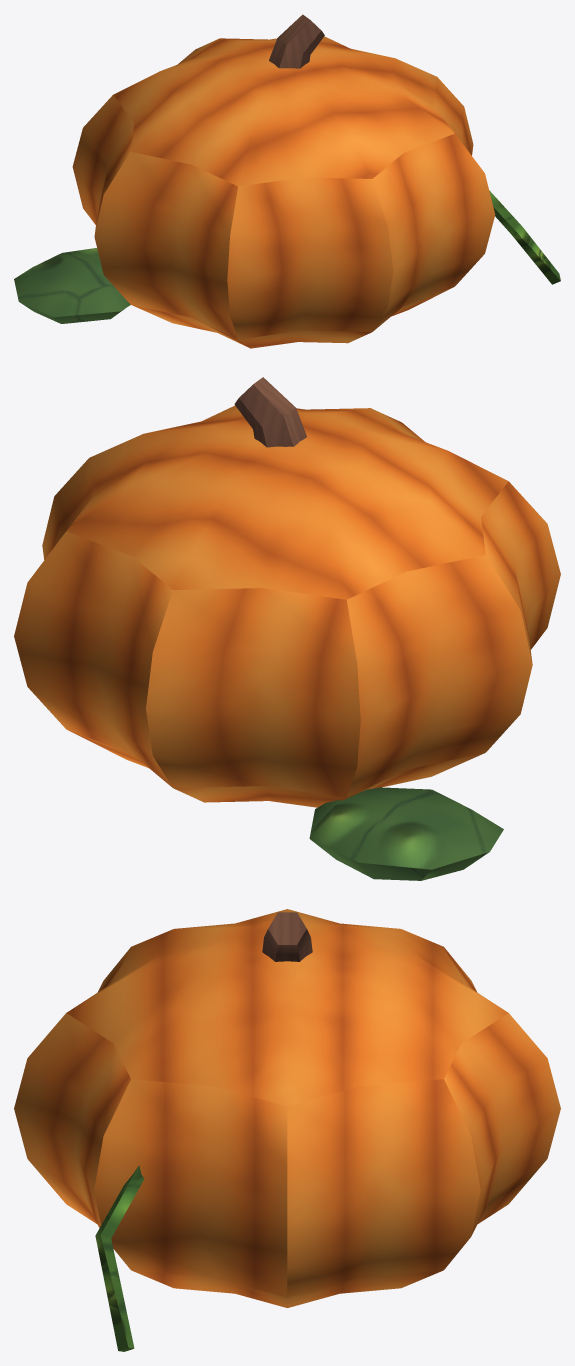
The model's file is pumpkin.gltf.
3 renders of one model, top to bottom at view 1: azimuth 30°, elevation 25°; view 2: azimuth 150°, elevation 25°; view 3: azimuth 270°, elevation 25°, orthographic. The views are drawn at different scales.
Parts seen in each view (by area): view 1: pumpkin_mesh; view 2: pumpkin_mesh; view 3: pumpkin_mesh.
Part boxes in pixels (<box>): pumpkin_mesh: <box>14,14,560,348</box>; pumpkin_mesh: <box>14,377,560,880</box>; pumpkin_mesh: <box>14,909,560,1351</box>.
Size of what is drawn, in the model's own units: 0.848 by 0.5718 by 0.7603.
4 materials, 4 textured.
